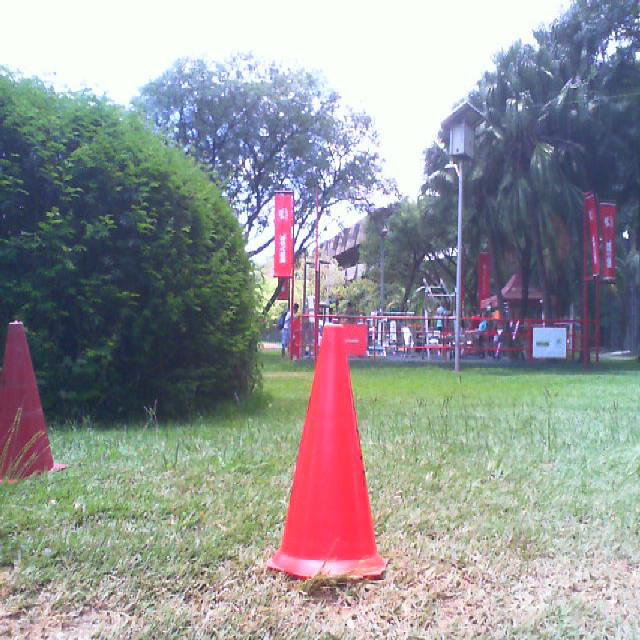cone: (268, 323, 388, 580), (0, 323, 65, 481)
